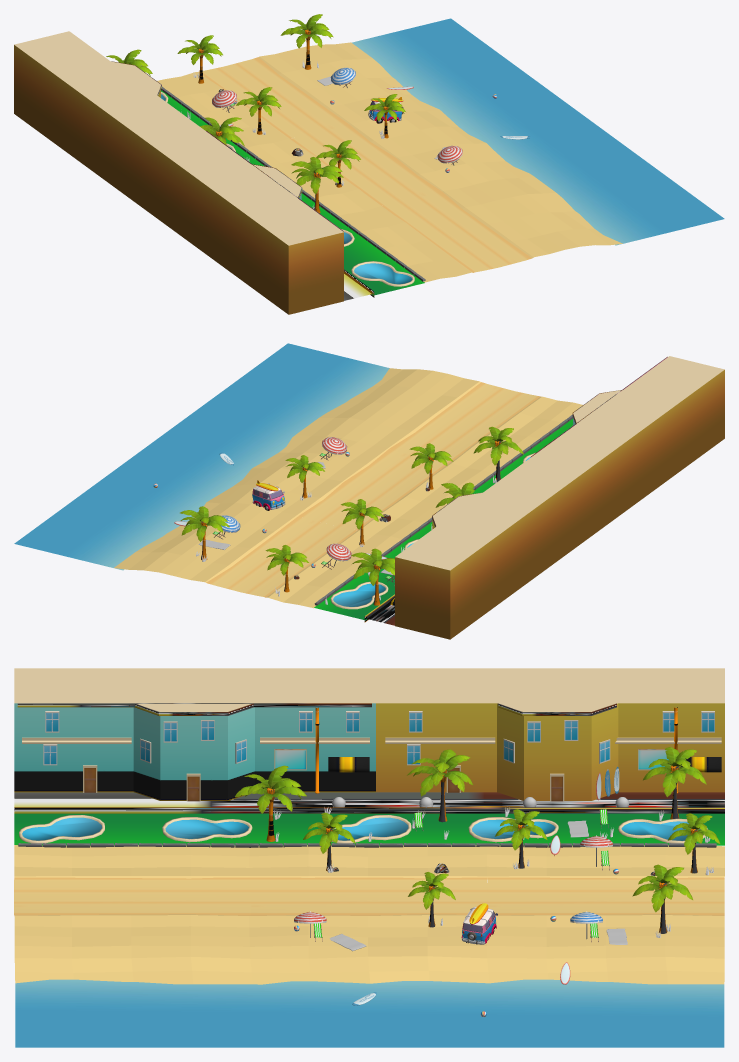
The model's file is Beach F.fbx.
3 renders of one model, top to bottom at view 1: azimuth 30°, elevation 25°; view 2: azimuth 150°, elevation 25°; view 3: azimuth 270°, elevation 25°, orthographic. The views are drawn at different scales.
Visible parts, largest first — view 1: Plane.005, Cube.163, Plane.004, Cube.290, Plane.003, as_road_module.001, as_road_module.005, as_road_module.004, Plane.006, pool.004, Cube.126, coconut_tree.003 (+7 smaller); view 2: Plane.005, Cube.290, Plane.004, Cube.163, Plane.003, as_road_module.001, as_road_module.004, as_road_module.005, Plane.006, pool, coconut_tree.004, coconut_tree.005 (+8 smaller); view 3: Plane.005, Plane.004, Cube.163, Cube.290, Plane.003, Cube.162, Plane.006, as_road_module.001, as_road_module.005, as_road_module.004, Cube.126, pool.003 (+20 smaller).
Part boxes in pixels (<box>): Plane.005: <box>352,18,724,245</box>; Cube.163: <box>149,130,343,314</box>; Plane.004: <box>157,42,532,215</box>; Cube.290: <box>14,31,203,212</box>; Plane.003: <box>339,176,622,282</box>; as_road_module.001: <box>382,191,533,272</box>; as_road_module.005: <box>290,124,440,205</box>; as_road_module.004: <box>198,57,348,138</box>; Plane.006: <box>161,90,424,295</box>; pool.004: <box>351,261,414,286</box>; Cube.126: <box>161,86,425,281</box>; coconut_tree.003: <box>291,157,343,213</box>; Plane.005: <box>14,343,389,570</box>; Cube.290: <box>395,458,585,639</box>; Plane.004: <box>114,434,492,608</box>; Cube.163: <box>530,356,724,540</box>; Plane.003: <box>296,368,582,472</box>; as_road_module.001: <box>389,382,540,463</box>; as_road_module.004: <box>206,516,357,597</box>; as_road_module.005: <box>299,449,448,530</box>; Plane.006: <box>314,419,572,620</box>; pool: <box>330,581,388,609</box>; coconut_tree.004: <box>351,548,394,605</box>; coconut_tree.005: <box>180,506,229,559</box>; Plane.005: <box>15,979,724,1047</box>; Plane.004: <box>249,845,724,984</box>; Cube.163: <box>14,668,375,800</box>; Cube.290: <box>376,668,724,800</box>; Plane.003: <box>14,845,252,984</box>; Cube.162: <box>14,792,724,813</box>; Plane.006: <box>14,813,724,845</box>; as_road_module.001: <box>14,877,250,915</box>; as_road_module.005: <box>251,877,487,915</box>; as_road_module.004: <box>487,877,724,915</box>; Cube.126: <box>18,843,716,847</box>; pool.003: <box>162,817,252,842</box>.
Bounding box in the file's own units: 2210 × 398 × 2410.
